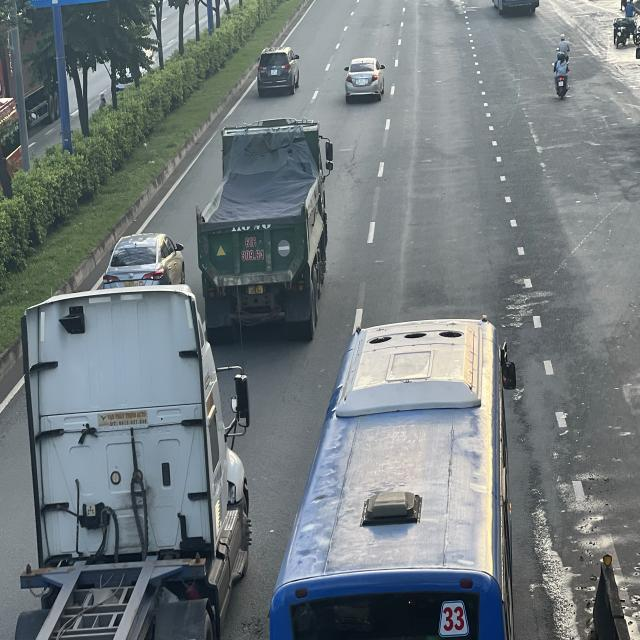car: (104, 231, 186, 292), (257, 46, 302, 97), (343, 58, 385, 102)
coach: (267, 324, 521, 640)
container: (12, 285, 254, 636), (199, 116, 336, 339)
